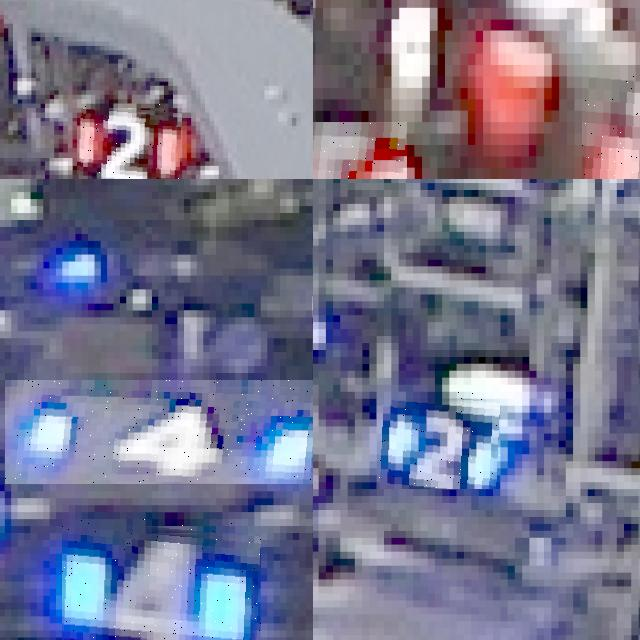B2: (377, 392, 500, 489)
B4: (5, 379, 313, 484), (62, 519, 260, 640)
R2: (77, 103, 182, 179)
R5: (582, 64, 640, 179), (313, 122, 407, 179)
